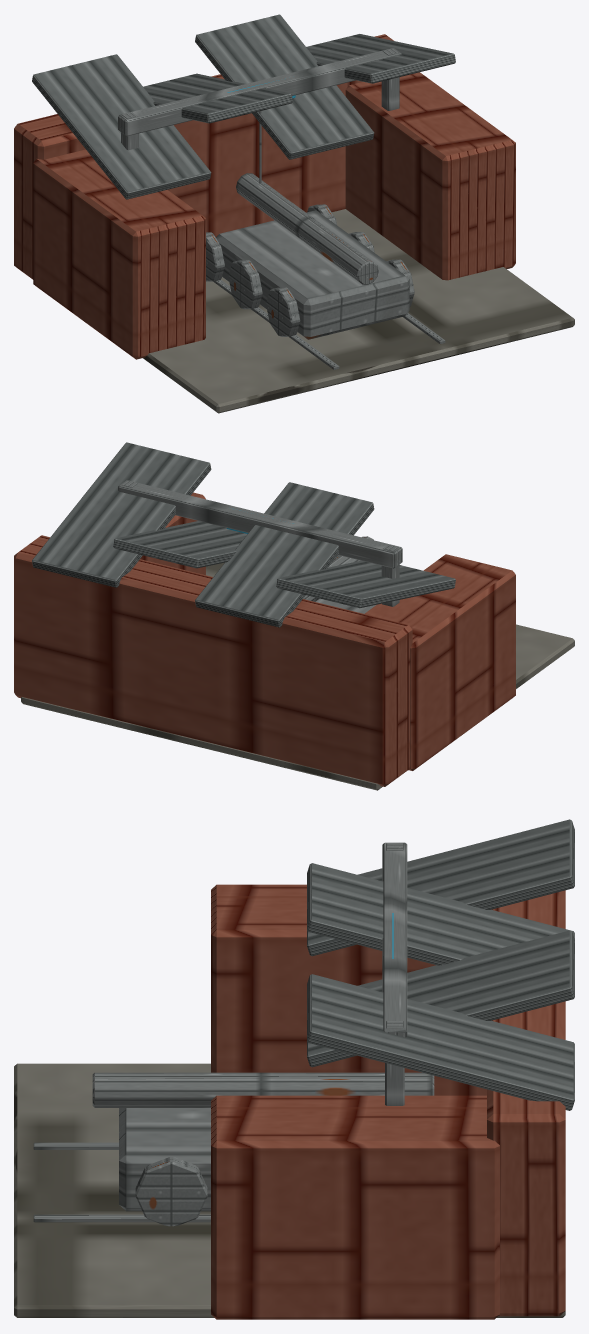
File: edificio-b_016-e4-BvzxrF9C.glb
The picture shows the model from 3 angles, top to bottom: view 1: azimuth 30°, elevation 25°; view 2: azimuth 150°, elevation 25°; view 3: azimuth 270°, elevation 25°; orthographic projection. The views are drawn at different scales.
Parts seen in each view (by area): view 1: envolvente_fabrica_asedio_e4, mecanismo_fabrica_asedio_e4; view 2: envolvente_fabrica_asedio_e4, mecanismo_fabrica_asedio_e4; view 3: envolvente_fabrica_asedio_e4, mecanismo_fabrica_asedio_e4.
Part boxes in pixels (bbox=[...]): envolvente_fabrica_asedio_e4: bbox=[14, 14, 574, 413]; mecanismo_fabrica_asedio_e4: bbox=[118, 48, 445, 369]; envolvente_fabrica_asedio_e4: bbox=[14, 442, 574, 790]; mecanismo_fabrica_asedio_e4: bbox=[118, 480, 402, 613]; envolvente_fabrica_asedio_e4: bbox=[14, 819, 574, 1319]; mecanismo_fabrica_asedio_e4: bbox=[33, 842, 434, 1226].
Size of the model in its own units: 47 by 23.39 by 42.7.
Materials: 2 (1 with a texture image).
